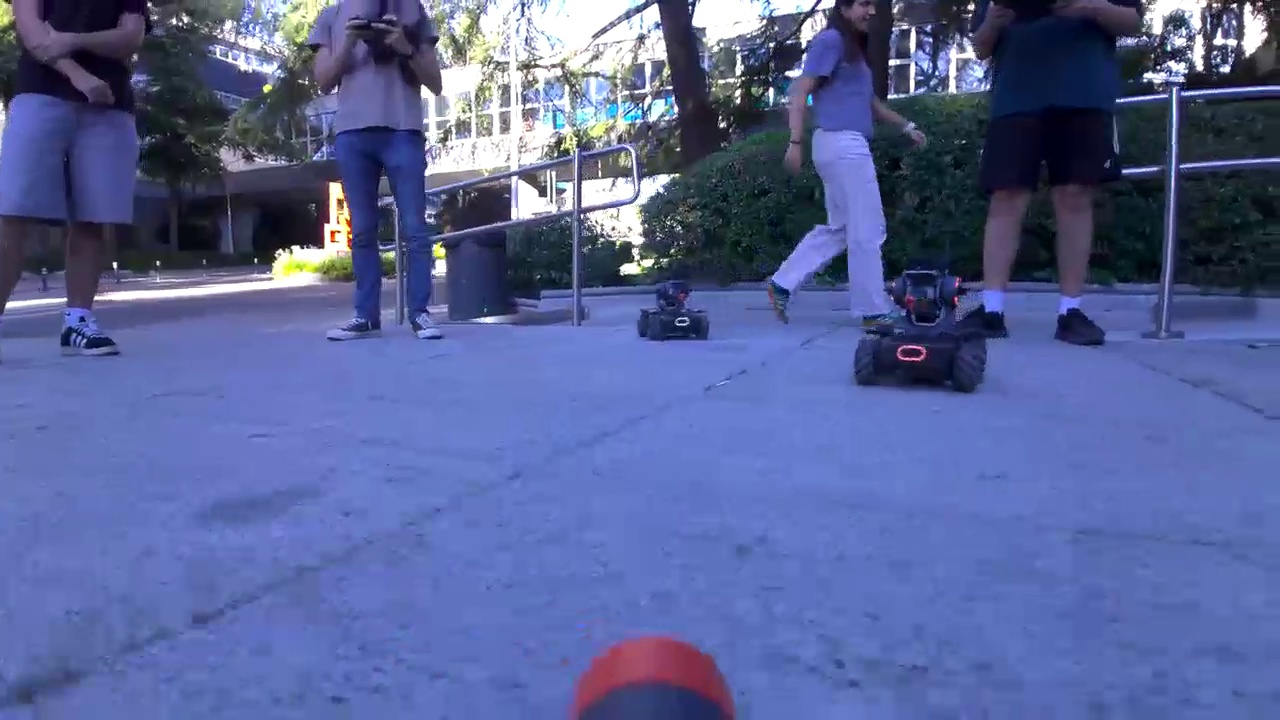robot: (853, 257, 990, 394), (637, 278, 711, 342)
